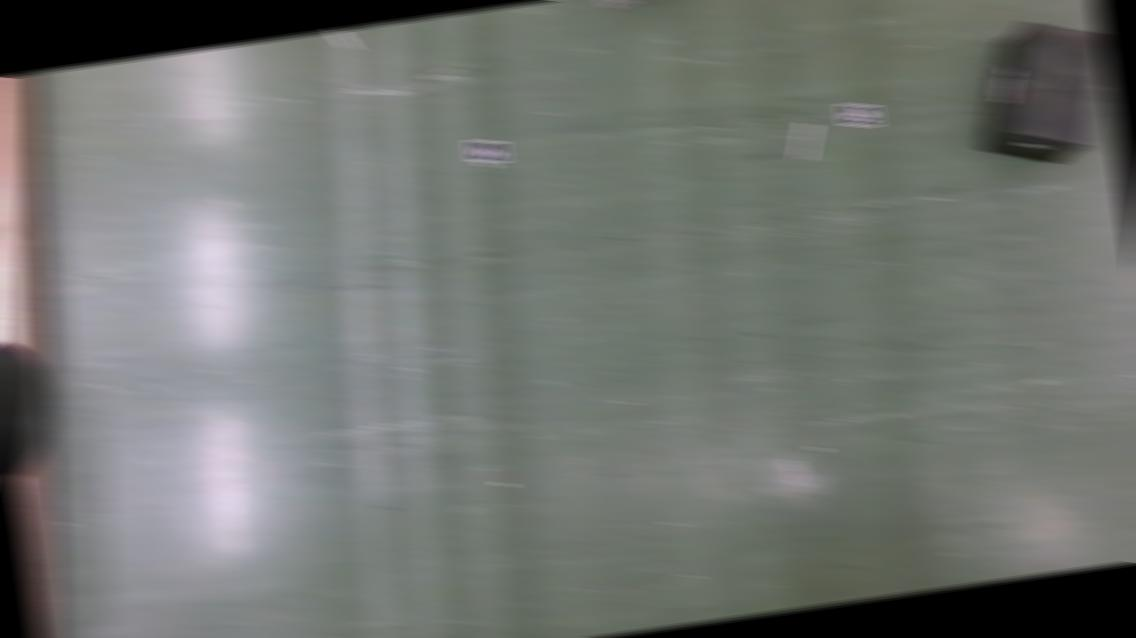probes: (792, 124, 818, 160), (326, 28, 356, 50)
rako: (964, 13, 1124, 174)
